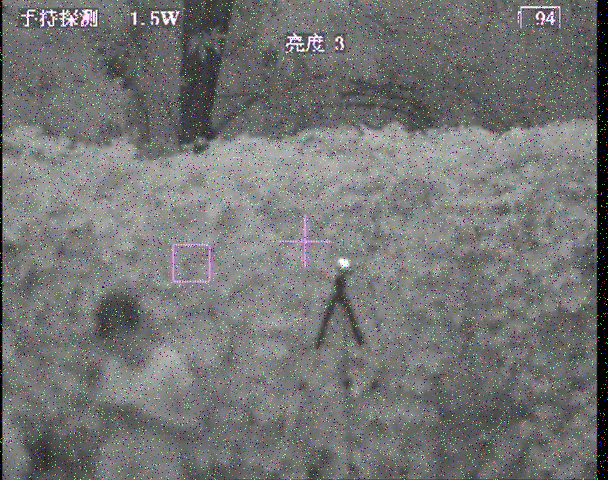my: (338, 256, 350, 270)
